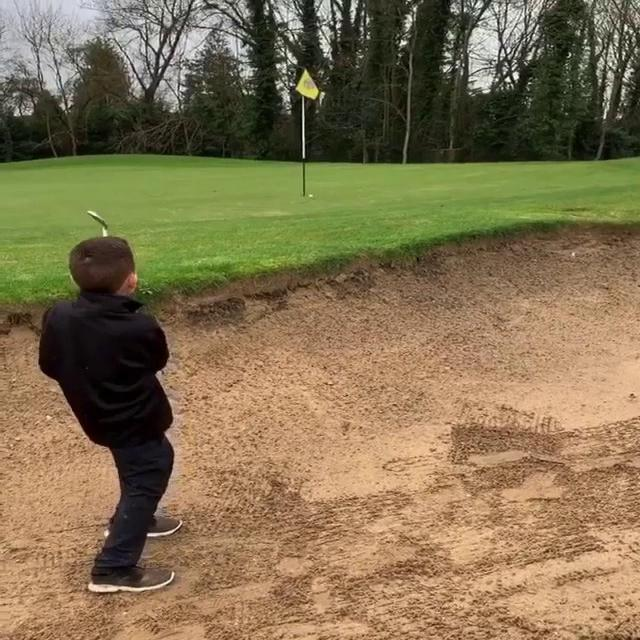golf club-handle: (86, 210, 109, 236)
golf club-head: (88, 210, 107, 228), (308, 195, 313, 199)
